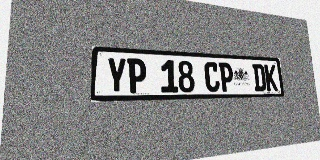1: (160, 60, 178, 93)
8: (177, 60, 195, 92)
C: (204, 62, 220, 92)
D: (252, 64, 266, 91)
K: (264, 64, 278, 91)
P: (127, 58, 147, 93), (219, 62, 234, 92)
Y: (106, 57, 127, 94)
